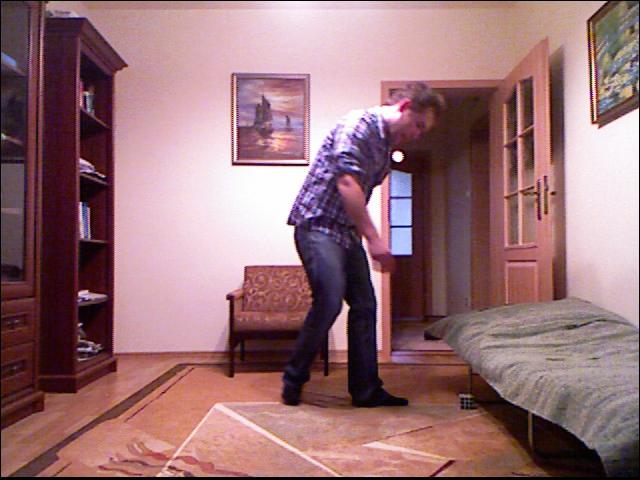bending: (273, 78, 451, 409)
